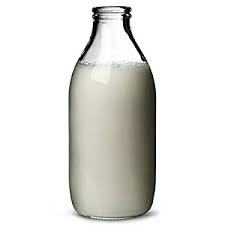milk: (61, 7, 158, 218)
